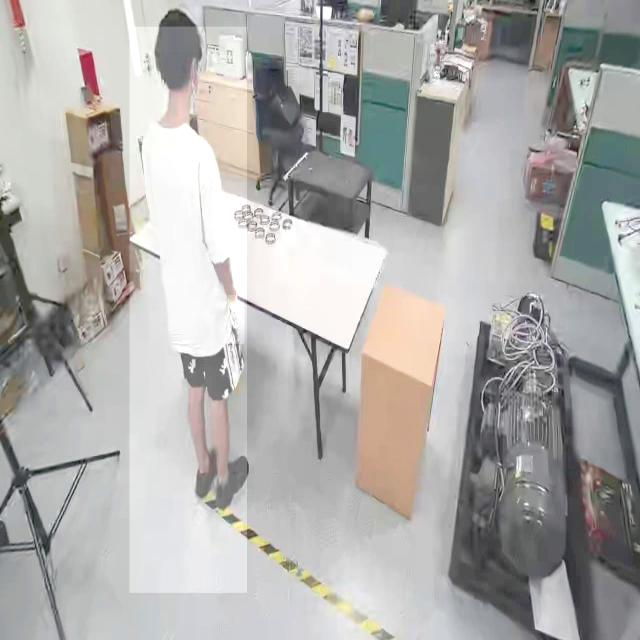hand_glove: (228, 295, 245, 345)
head_nohelmet: (156, 7, 201, 52)
person: (130, 26, 248, 594)
shoes: (210, 450, 253, 512), (192, 446, 220, 502)
